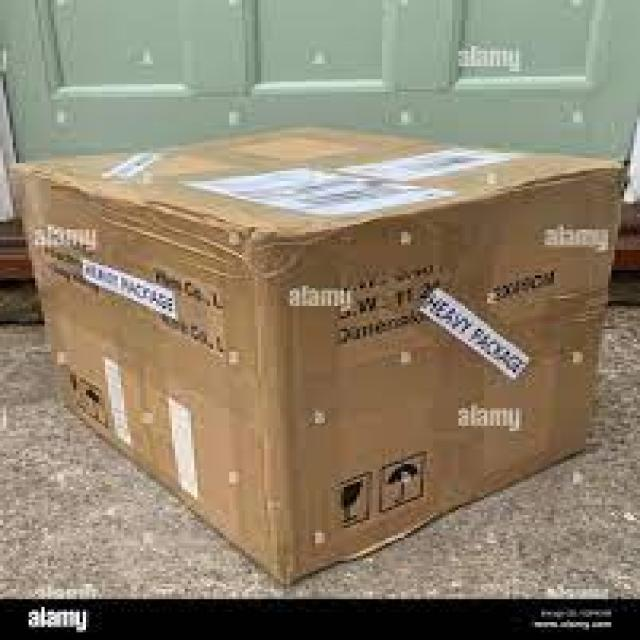box: (83, 109, 640, 558)
tear: (70, 186, 165, 286)
